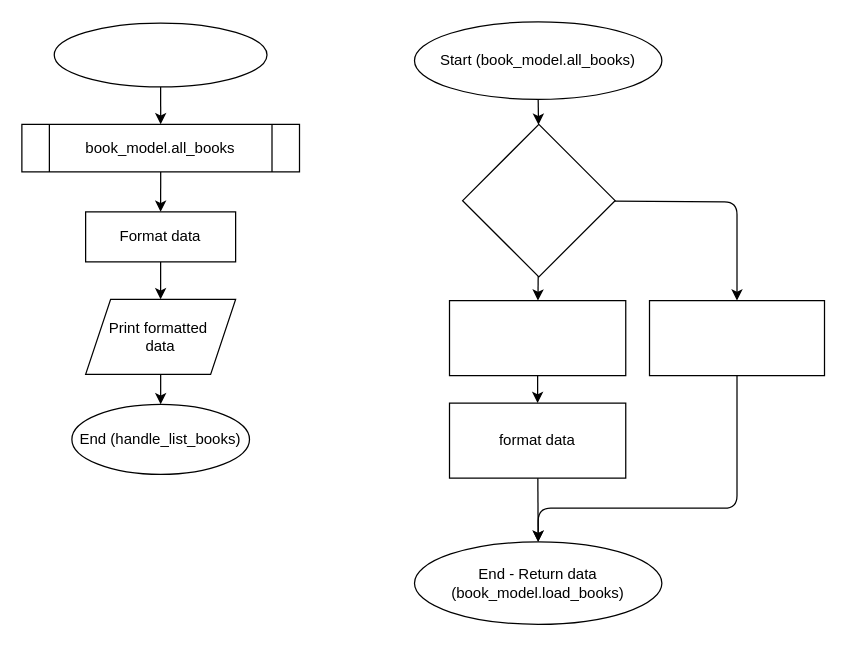
Some shapes in this 848 by 646 pixel diagram are drawn without their labels. Here are the shapes that lost their labels. From the top down, the box of each, then its label:
(53, 22, 267, 87): Start (handle_list_books )
(461, 123, 615, 277): if BOOKS_FILE exists
(448, 299, 626, 376): with open(BOOKS _FILE , "r")
(648, 299, 824, 376): with open(BOOKS _FILE , "a")
